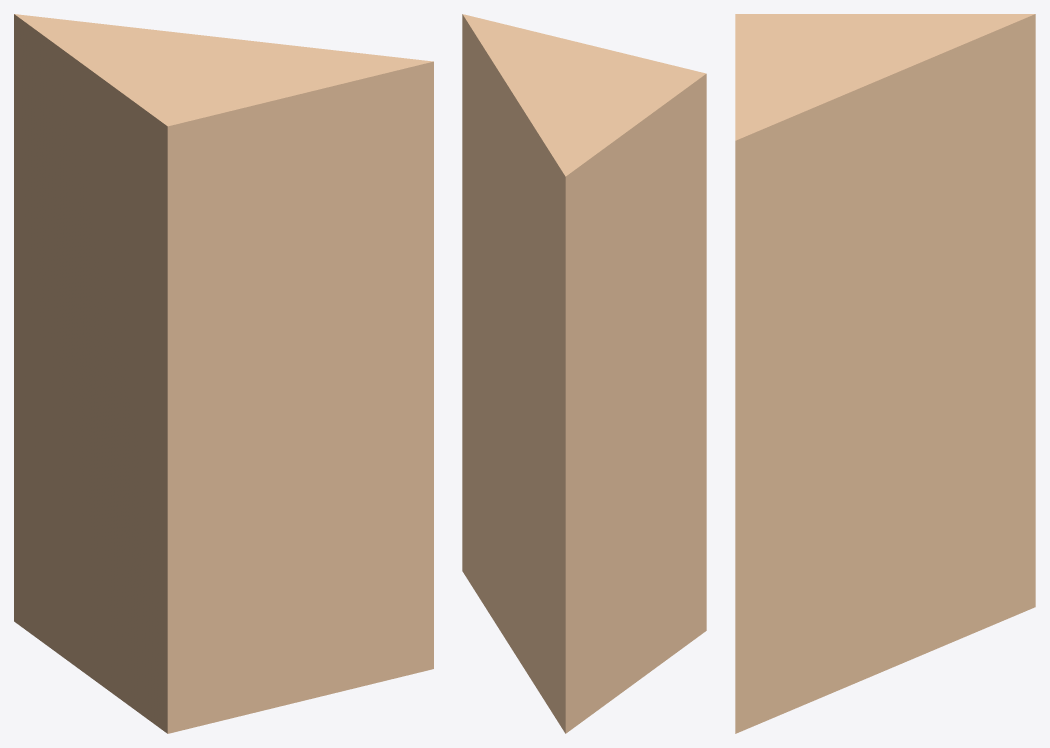
File: cliffGrey_cornerMid.glb
The picture shows the model from 3 angles, left to right: view 1: azimuth 30°, elevation 25°; view 2: azimuth 150°, elevation 25°; view 3: azimuth 270°, elevation 25°; orthographic projection. The views are drawn at different scales.
Visible parts, largest first — view 1: cliffGrey_cornerMid; view 2: cliffGrey_cornerMid; view 3: cliffGrey_cornerMid.
Boxes of the visible parts, x1,y1,x2,y2 form: cliffGrey_cornerMid: [14, 14, 433, 733]; cliffGrey_cornerMid: [462, 14, 706, 733]; cliffGrey_cornerMid: [735, 14, 1035, 733].
Bounding box in the file's own units: 4.58 × 10 × 4.58.
